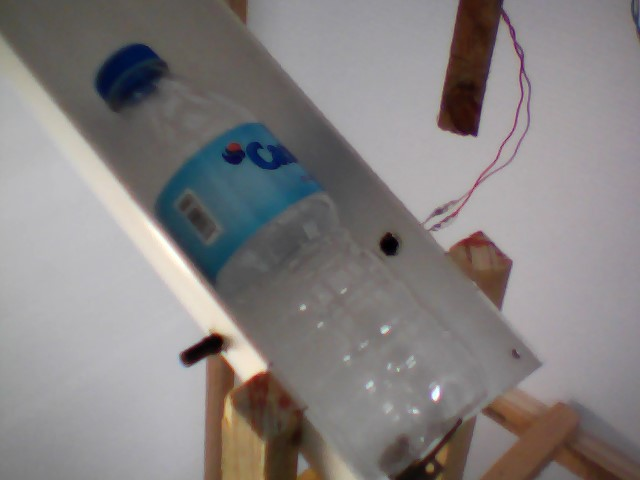plastico: (91, 43, 492, 480)
